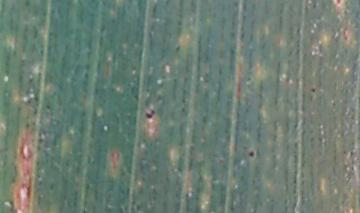tarspot: (146, 110, 156, 119), (247, 150, 255, 158), (310, 87, 317, 93)
